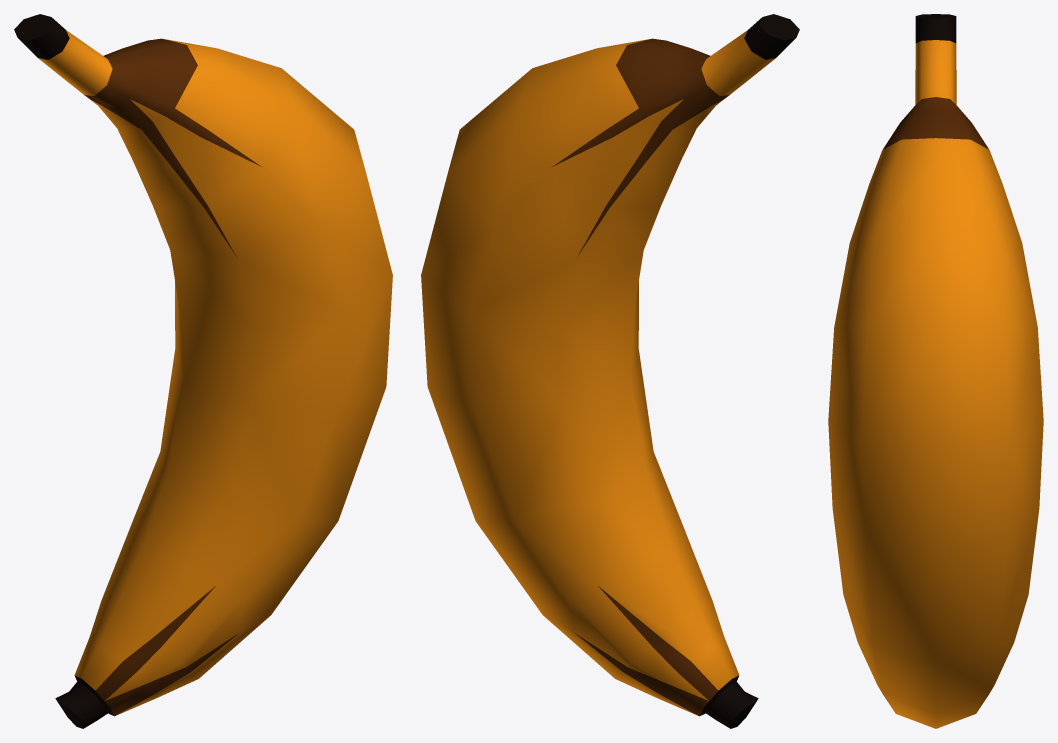
File: BananaNew.fbx
3 renders of one model, left to right at view 1: azimuth 30°, elevation 25°; view 2: azimuth 150°, elevation 25°; view 3: azimuth 270°, elevation 25°, orthographic. The views are drawn at different scales.
Visible parts, largest first — view 1: node_id8 (×3); view 2: node_id8 (×3); view 3: node_id8 (×3).
Boxes of the visible parts, bbox=[...] form: node_id8 (×3): bbox=[14, 14, 392, 728]; node_id8 (×3): bbox=[421, 14, 799, 728]; node_id8 (×3): bbox=[828, 14, 1043, 728].
Size of the model in its own units: 0.2911 by 0.5495 by 0.1591.
